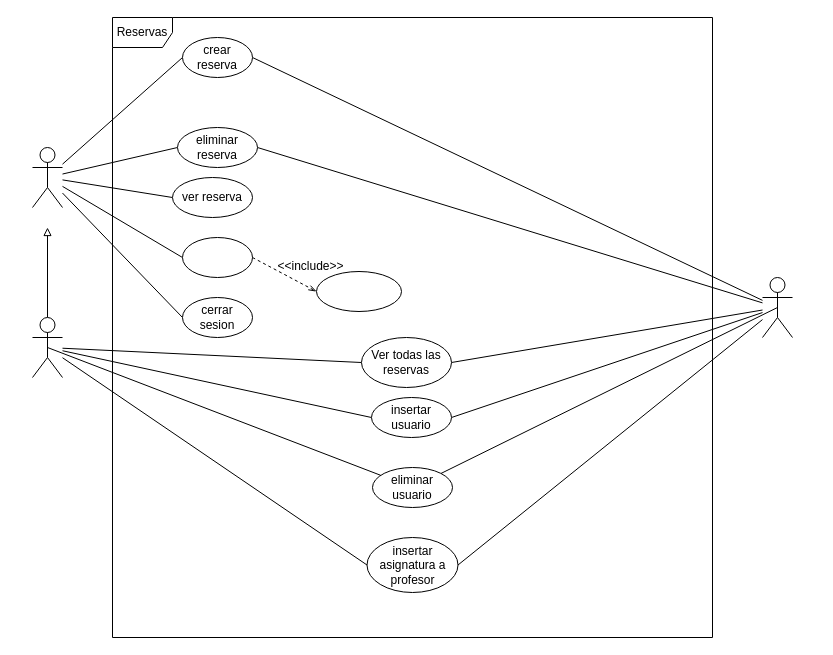
Image size: 833x655. Some labels were removed from this diagram. The shapes that lost their labels are listed below. From the top down, each one's centre as x and y in pixels, then its label:
At pixel 47 177: "Profesor".
At pixel 217 257: "iniciar sesion".
At pixel 359 291: "autentificación".
At pixel 777 307: "Base de datos".
At pixel 47 347: "Subdirector".
